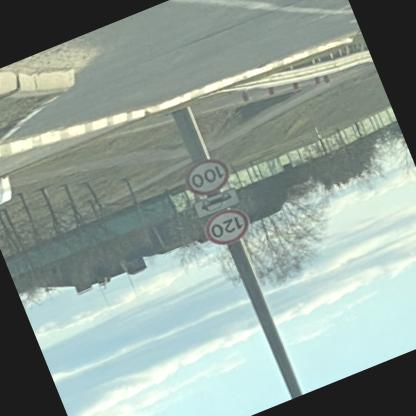speedlimit: (182, 152, 238, 201), (202, 202, 257, 250)
